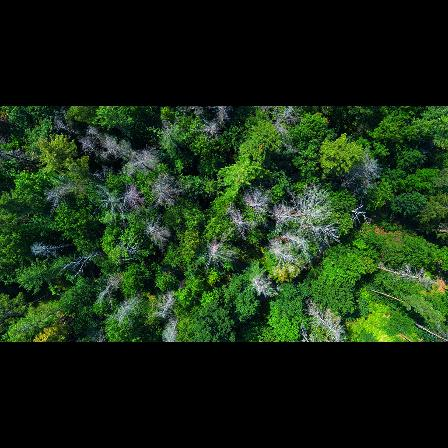Dead: (273, 184, 329, 223), (369, 263, 437, 291), (306, 301, 348, 342), (42, 178, 101, 206), (342, 150, 381, 190), (196, 238, 238, 274), (144, 175, 189, 208), (89, 130, 132, 162), (268, 236, 301, 273), (241, 184, 273, 219), (61, 250, 104, 275), (267, 106, 304, 133), (92, 273, 122, 306), (142, 220, 172, 251), (113, 294, 140, 328), (227, 204, 251, 242), (298, 217, 346, 236), (77, 138, 109, 166), (150, 289, 179, 319), (100, 186, 125, 219), (30, 242, 78, 259), (124, 180, 147, 214), (194, 121, 227, 143), (413, 322, 448, 341), (348, 203, 372, 230), (282, 228, 307, 253), (53, 110, 77, 136), (133, 156, 157, 175), (210, 106, 231, 127)
